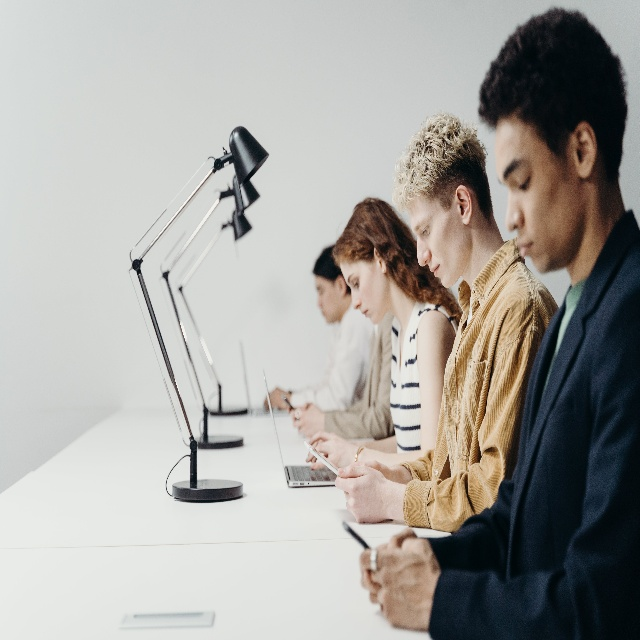Sin_guantes: (357, 532, 440, 626), (335, 465, 386, 523), (306, 430, 357, 475), (292, 401, 325, 441), (264, 387, 290, 412)
